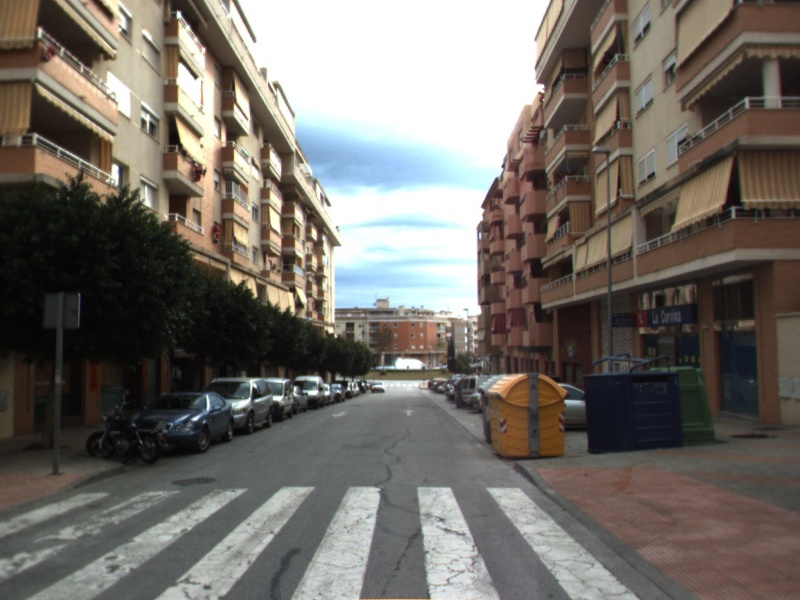STRAIGHT: (400, 407, 417, 418)
